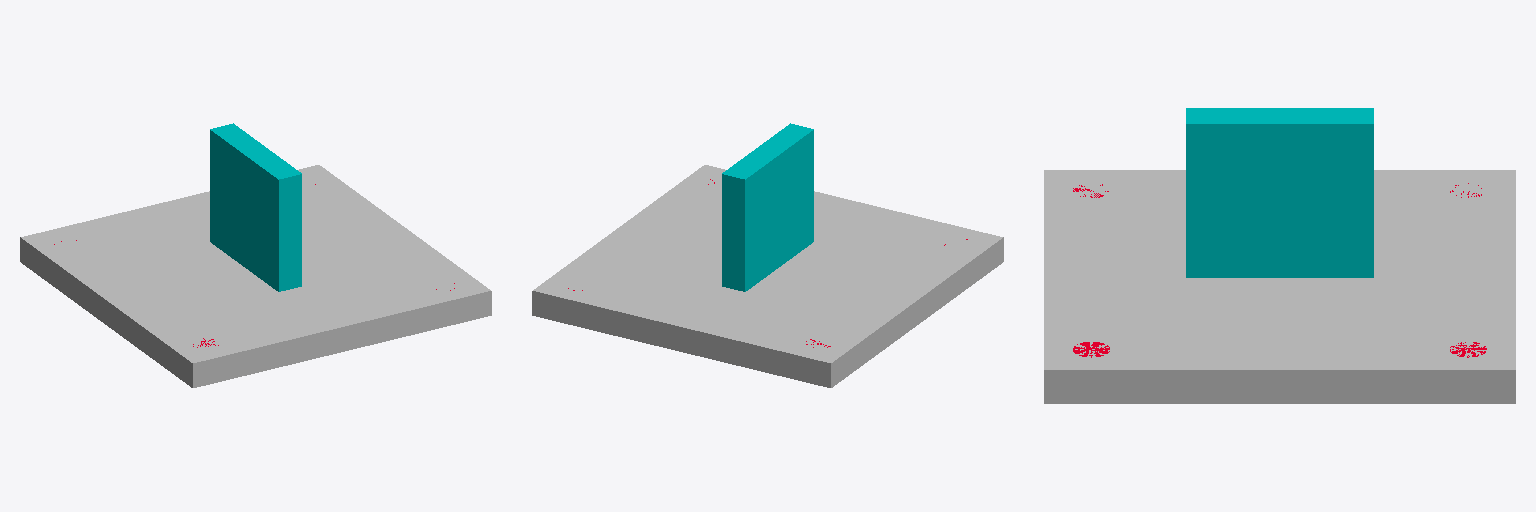
The robot description file, URDF, robot "cup":
<?xml version="1.0"?>
<robot name="cup">


  <!-- Link representing the blade of the shovel -->
  <link name="base_link">
    <visual>
      <geometry>
        <box size="0.25 0.25 0.02"/>
      </geometry>
      <material name="silver">
        <color rgba="0.8 0.8 0.8 1"/>
      </material>
    </visual>
    <collision>
      <geometry>
        <box size="0.25 0.25 0.02"/>
      </geometry>
    </collision>
    <inertial>
      <mass value="0.5"/>
      <origin rpy="0 0 0" xyz="0.0 0.0 -0.025"/>
      <inertia ixx="0.0001" ixy="0.0" ixz="0.0" iyy="0.0001" iyz="0.0" izz="0.0002"/>
    </inertial>
  </link>  

  <link name="bar_link">
    <visual>
      <geometry>
        <box size="0.1 0.02 0.1"/>
      </geometry>
      <material name="hu">
        <color rgba="0 0.8 0.8 1"/>
      </material>
    </visual>
    <collision>
      <geometry>
        <box size="0.1 0.02 0.1"/>
      </geometry>
    </collision>
    <inertial>
      <mass value="0.5"/>
      <origin rpy="0 0 0" xyz="0.0 0.0 -0.025"/>
      <inertia ixx="0.0001" ixy="0.0" ixz="0.0" iyy="0.0001" iyz="0.0" izz="0.0002"/>
    </inertial>
  </link> 
  

  <!-- 定义一个名为 "cylinder_link" 的链接 -->
  <link name="cylinder_link1">
    <!-- 描述圆柱体的外观 -->
    <visual>
      <geometry>
        <!-- 定义圆柱体 -->
        <cylinder radius="0.01" length="0.02"/> <!-- 修改这里的半径和高度以适应你的需求 -->
      </geometry>
      <material name="hhh">
        <color rgba="1 0.0 0.2 0.5"/>
      </material>
    </visual>
    <!-- 描述圆柱体的碰撞模型 -->
    <collision>
      <geometry>
        <!-- 通常与可视化模型相同 -->
        <cylinder radius="0.01" length="0.0"/>
      </geometry>
    </collision>
  </link>
  <link name="cylinder_link2">
    <!-- 描述圆柱体的外观 -->
    <visual>
      <geometry>
        <!-- 定义圆柱体 -->
        <cylinder radius="0.01" length="0.02"/> <!-- 修改这里的半径和高度以适应你的需求 -->
      </geometry>
      <material name="hhh">
        <color rgba="1 0.0 0.2 0.5"/>
      </material>
    </visual>
    <!-- 描述圆柱体的碰撞模型 -->
    <collision>
      <geometry>
        <!-- 通常与可视化模型相同 -->
        <cylinder radius="0.01" length="0.0"/>
      </geometry>
    </collision>
  </link>
  <link name="cylinder_link3">
    <!-- 描述圆柱体的外观 -->
    <visual>
      <geometry>
        <!-- 定义圆柱体 -->
        <cylinder radius="0.01" length="0.02"/> <!-- 修改这里的半径和高度以适应你的需求 -->
      </geometry>
      <material name="hhh">
        <color rgba="1 0.0 0.2 0.5"/>
      </material>
    </visual>
    <!-- 描述圆柱体的碰撞模型 -->
    <collision>
      <geometry>
        <!-- 通常与可视化模型相同 -->
        <cylinder radius="0.01" length="0.0"/>
      </geometry>
    </collision>
  </link>
  <link name="cylinder_link4">
    <!-- 描述圆柱体的外观 -->
    <visual>
      <geometry>
        <!-- 定义圆柱体 -->
        <cylinder radius="0.01" length="0.02"/> <!-- 修改这里的半径和高度以适应你的需求 -->
      </geometry>
      <material name="hhh">
        <color rgba="1 0.0 0.2 0.5"/>
      </material>
    </visual>
    <!-- 描述圆柱体的碰撞模型 -->
    <collision>
      <geometry>
        <!-- 通常与可视化模型相同 -->
        <cylinder radius="0.01" length="0.0"/>
      </geometry>
    </collision>
  </link>
  
  <joint name="scoop_base_joint" type="fixed">
    <parent link="base_link"/>
    <child link="bar_link"/>
    <origin rpy="0 0 1.57079632679" xyz="0 0.0 0.05"/>
  </joint>  
  <joint name="hole_base_joint1" type="fixed">
    <parent link="base_link"/>
    <child link="cylinder_link1"/>
    <origin rpy="0 0 1.57079632679" xyz="0.1 0.1 0.0"/>
  </joint>
  <joint name="hole_base_joint2" type="fixed">
    <parent link="base_link"/>
    <child link="cylinder_link2"/>
    <origin rpy="0 0 1.57079632679" xyz="-0.1 0.1 0.0"/>
  </joint>
  <joint name="hole_base_joint3" type="fixed">
    <parent link="base_link"/>
    <child link="cylinder_link3"/>
    <origin rpy="0 0 1.57079632679" xyz="0.1 -0.1 0.0"/>
  </joint>
  <joint name="hole_base_joint4" type="fixed">
    <parent link="base_link"/>
    <child link="cylinder_link4"/>
    <origin rpy="0 0 1.57079632679" xyz="-0.1 -0.1 0.0"/>
  </joint>

</robot>

--- What the picture shows (computed from the rendered views, not written in the file) ---
Views: 3 orthographic renders of the robot side by side, from view 1: azimuth 30°, elevation 25°; view 2: azimuth 150°, elevation 25°; view 3: azimuth 270°, elevation 25°.
Robot: cup — 6 links, 5 joints (5 fixed); root link base_link; default pose: all joints at 0.
Links seen in each view (by area): view 1: base_link, bar_link; view 2: base_link, bar_link; view 3: base_link, bar_link.
Link boxes in pixels (x1=…): base_link: x1=20, y1=165, x2=491, y2=387; bar_link: x1=210, y1=123, x2=301, y2=291; base_link: x1=532, y1=165, x2=1003, y2=387; bar_link: x1=722, y1=123, x2=813, y2=291; base_link: x1=1044, y1=170, x2=1515, y2=403; bar_link: x1=1186, y1=108, x2=1373, y2=277.
Bounding box of the posed robot: 0.25 × 0.25 × 0.11 m (x, y, z).
Geometry: primitives only (box / cylinder / sphere), no mesh files.
